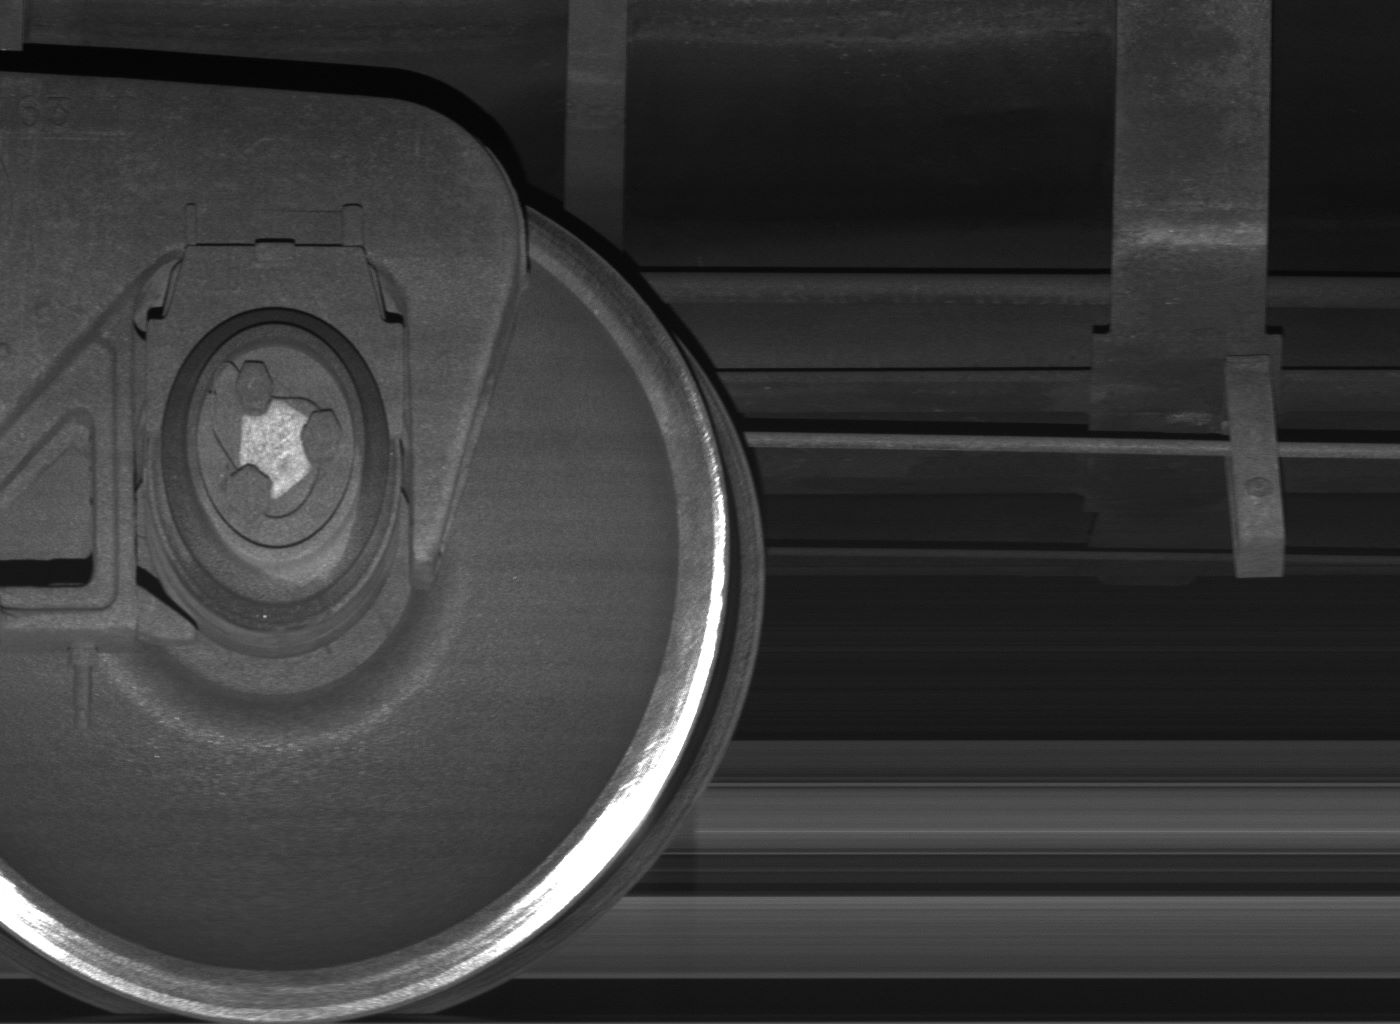normal: (1227, 358, 1286, 577)
